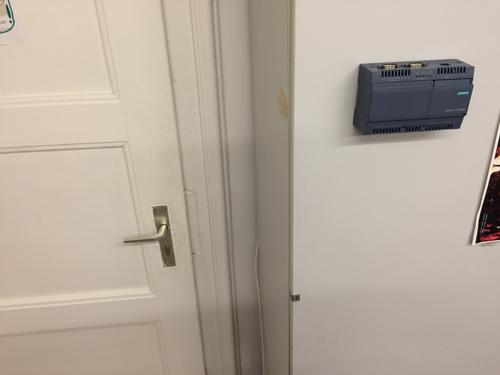iot2000: (352, 58, 475, 136)
